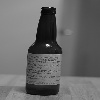beer: (22, 6, 64, 100)
